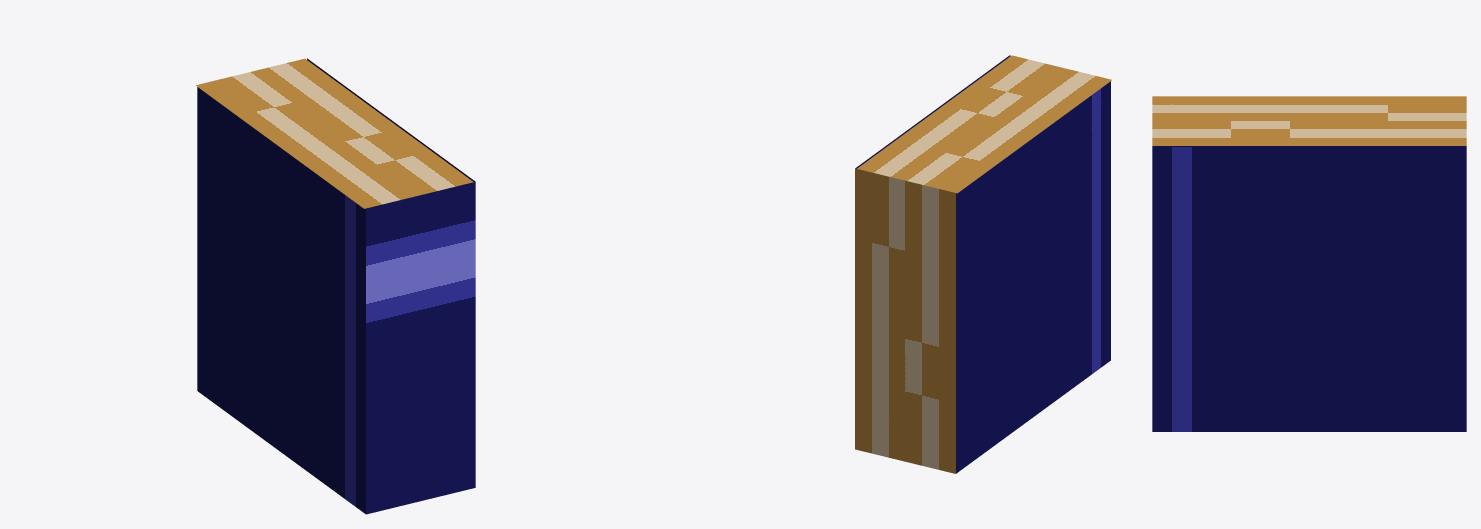
The model's file is BlueBookCroco.gltf.
3 renders of one model, left to right at view 1: azimuth 30°, elevation 25°; view 2: azimuth 150°, elevation 25°; view 3: azimuth 270°, elevation 25°, orthographic. The views are drawn at different scales.
Visible parts, largest first — view 1: default; view 2: default; view 3: default.
Part boxes in pixels (left/top/right/bottom): default: left=196, top=58, right=475, bottom=514; default: left=855, top=55, right=1111, bottom=473; default: left=1152, top=96, right=1466, bottom=431.
Size of the model in its own units: 1.62 by 1 by 1.
Materials: 1 (1 with a texture image).
